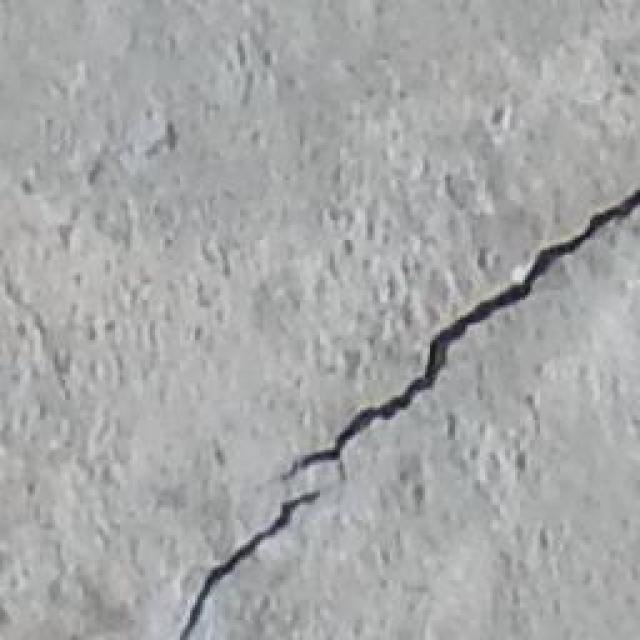concrete-crack: (282, 182, 638, 480), (178, 490, 320, 640)
